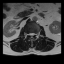CCS_normal: (30, 31, 32, 38)
LFS_normal: (35, 32, 36, 36)
LLS_normal: (33, 31, 34, 36)
RFS_normal: (27, 32, 28, 36)
RLS_normal: (29, 31, 30, 37)
